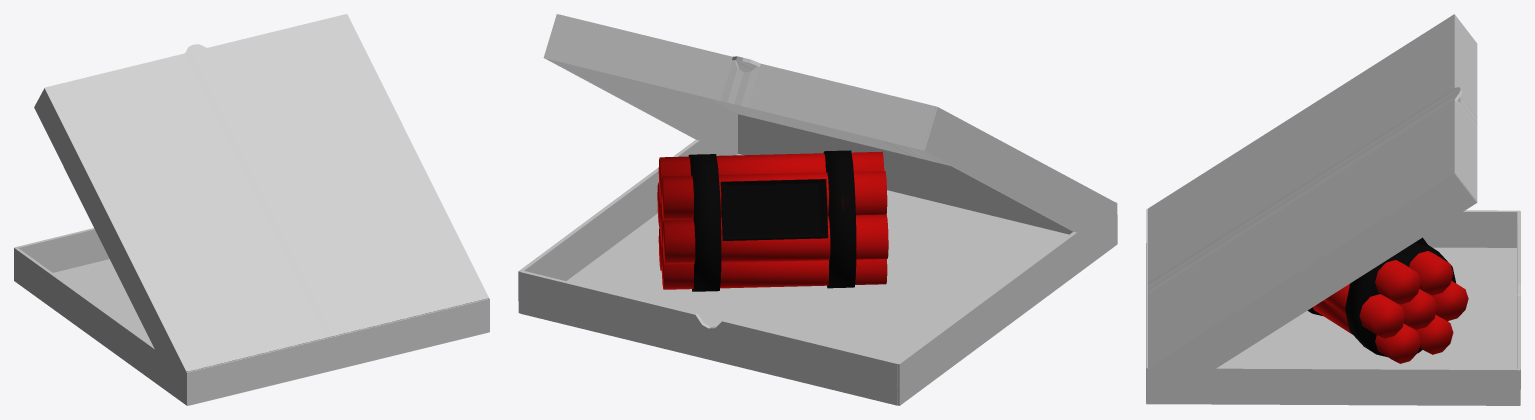
Rendered from bomb.fbx.
The picture shows the model from 3 angles, left to right: view 1: azimuth 30°, elevation 25°; view 2: azimuth 150°, elevation 25°; view 3: azimuth 270°, elevation 25°; orthographic projection. The views are drawn at different scales.
Parts seen in each view (by area): view 1: PizzaBox; view 2: PizzaBox; view 3: PizzaBox.
Part boxes in pixels (x1,y1,x2,y2): PizzaBox: [14, 14, 489, 405]; PizzaBox: [518, 14, 1117, 405]; PizzaBox: [1146, 14, 1520, 405].
Size of the model in its own units: 394 by 273 by 391.
